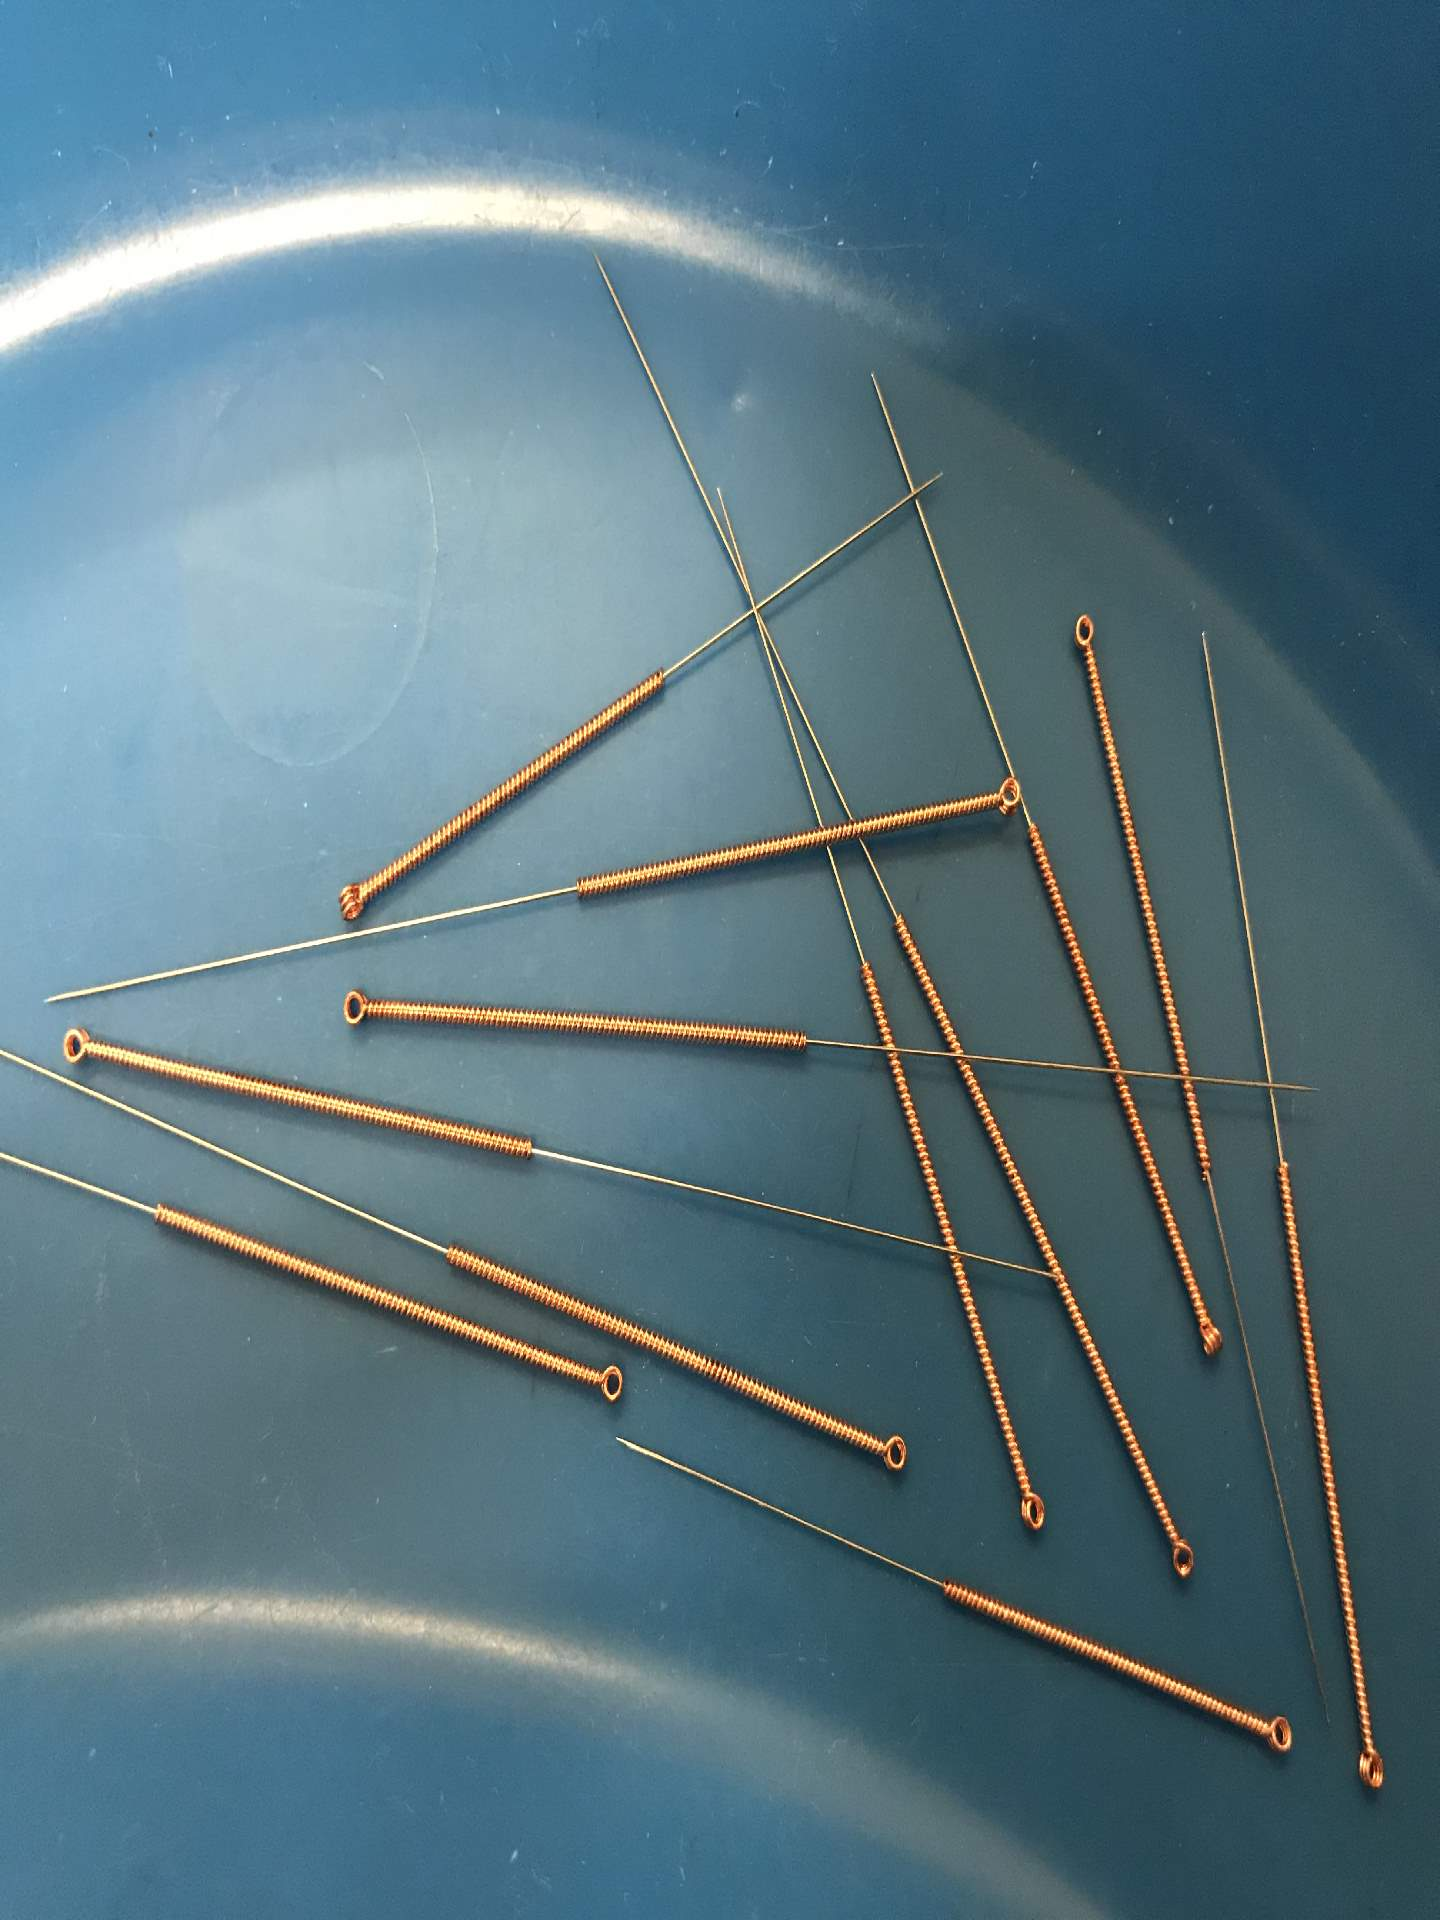needle: (998, 1457, 1057, 1550), (1147, 1515, 1210, 1599), (1342, 1716, 1401, 1807), (569, 1349, 643, 1420), (856, 1417, 926, 1492), (1240, 1695, 1304, 1770), (1056, 593, 1112, 677), (321, 978, 390, 1042), (319, 869, 389, 931), (47, 1014, 110, 1079), (1180, 1302, 1234, 1373), (965, 763, 1029, 822)
